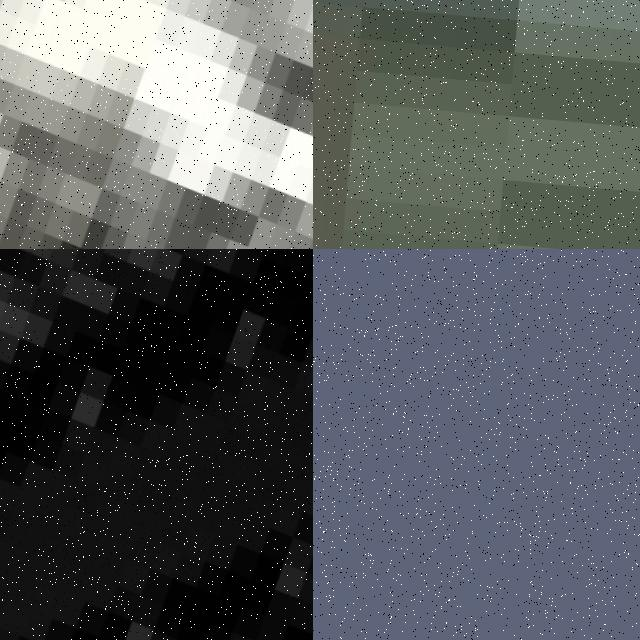drone: (0, 249, 313, 640), (0, 0, 313, 249)
